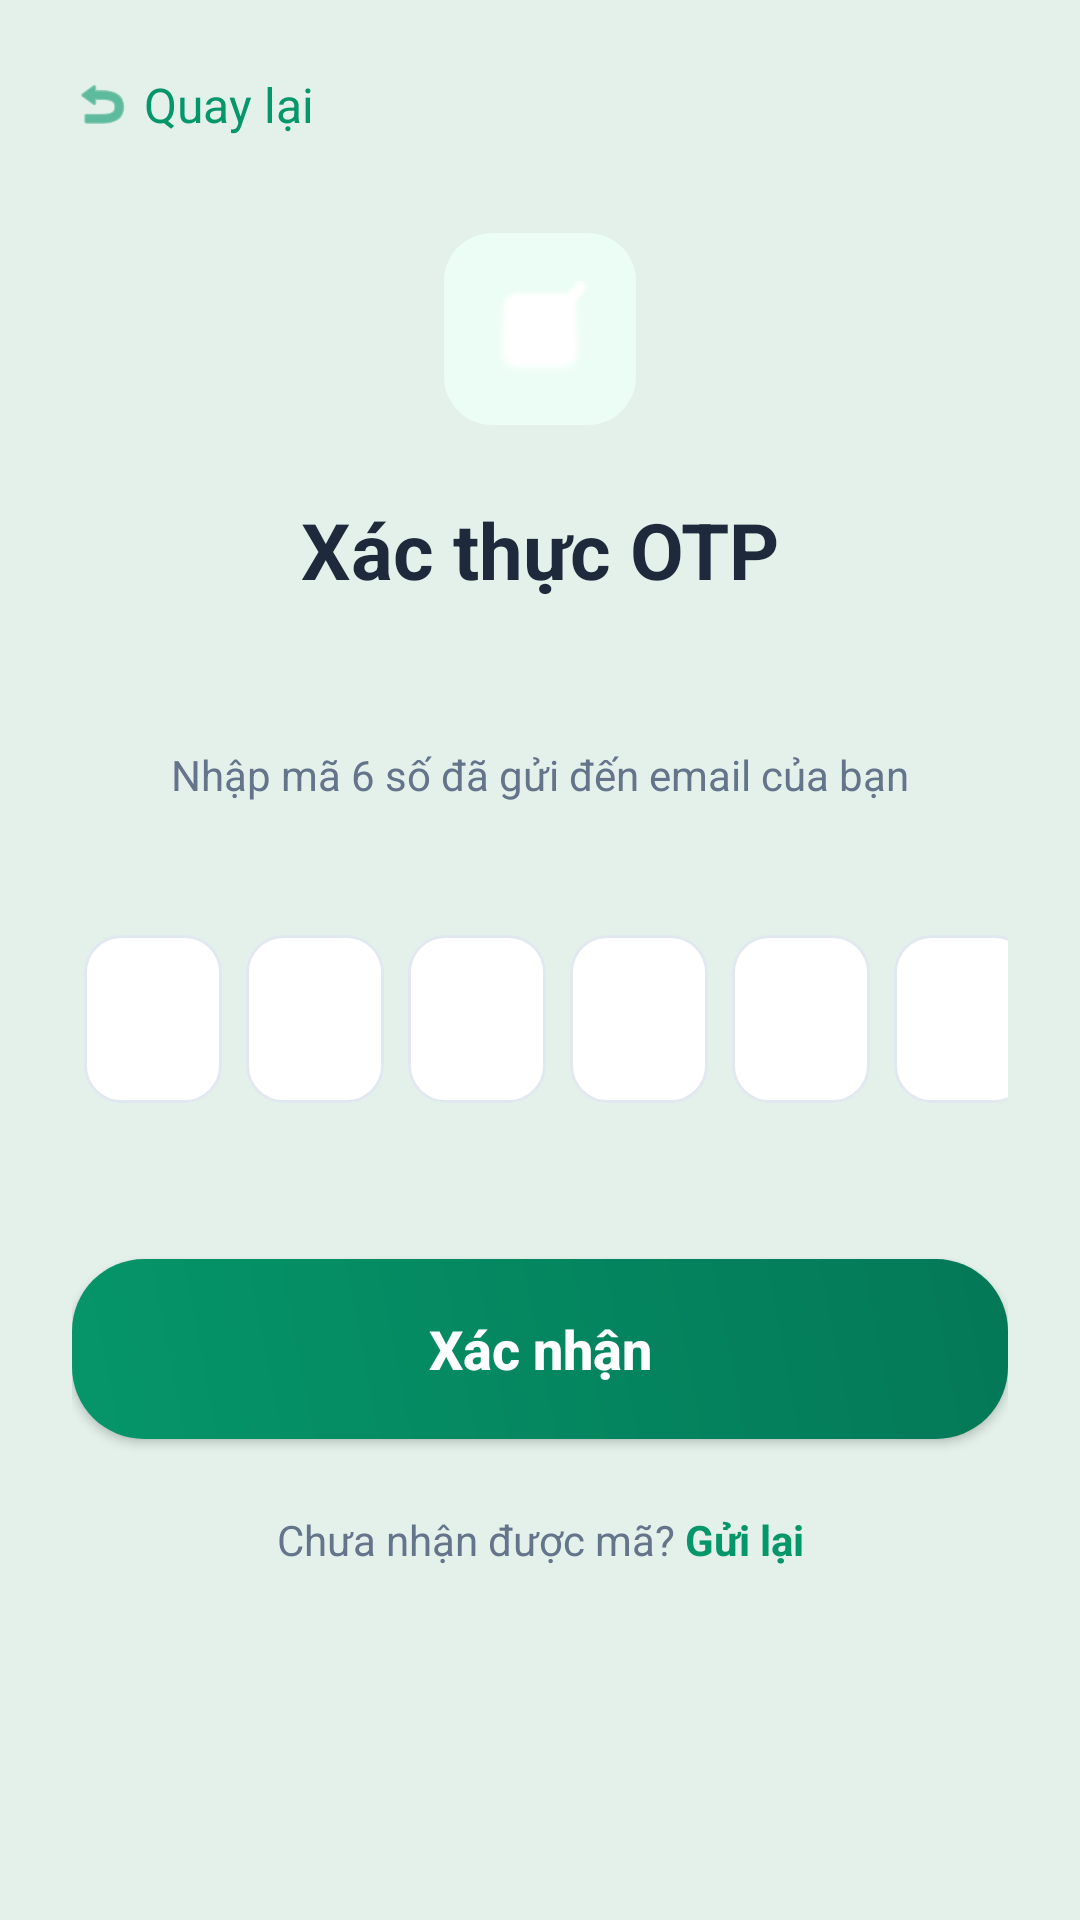

Named icons in this screenshot (1080 × 1920) and their centers, point (x, y):
revert: point (102, 104)
